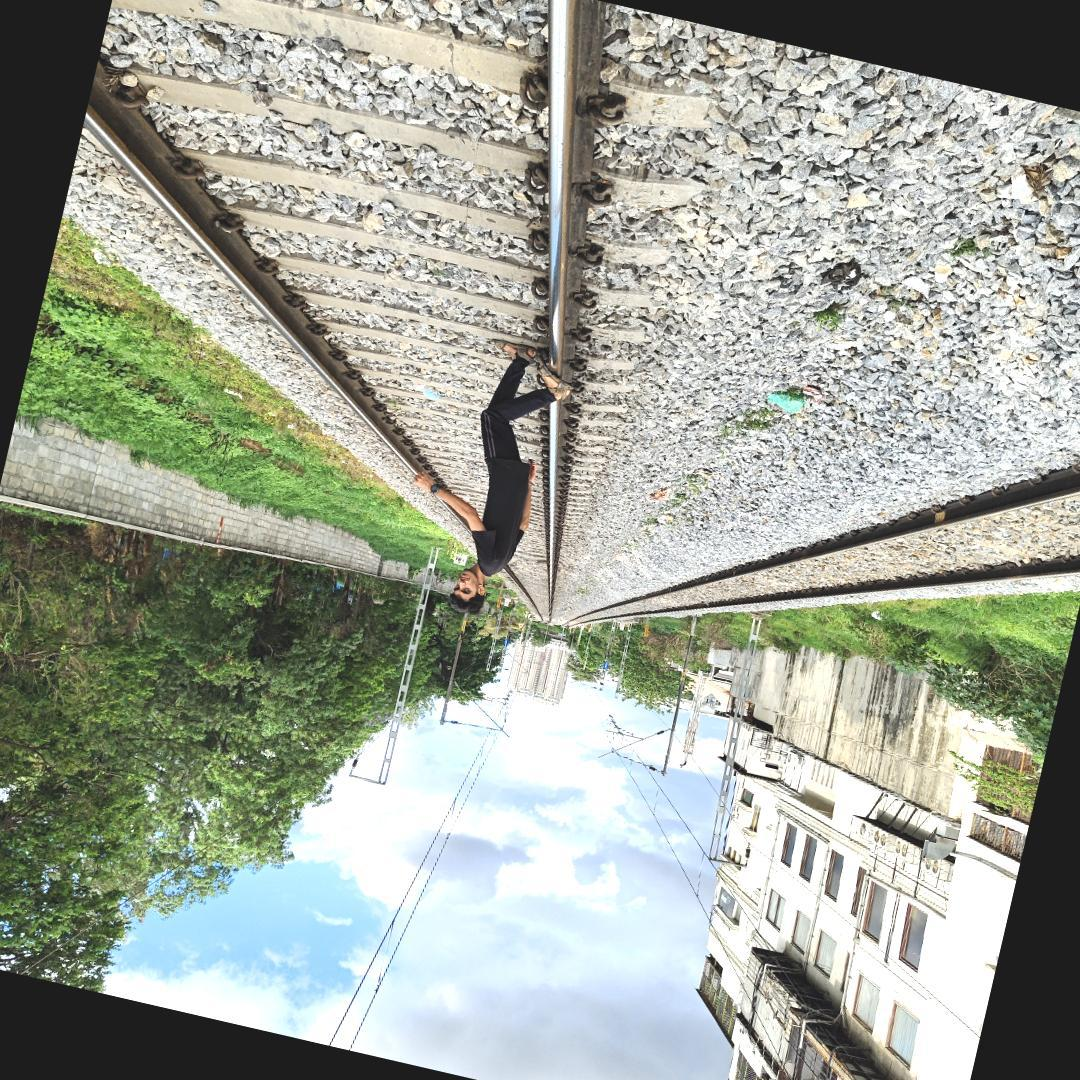standing: (407, 328, 589, 621)
